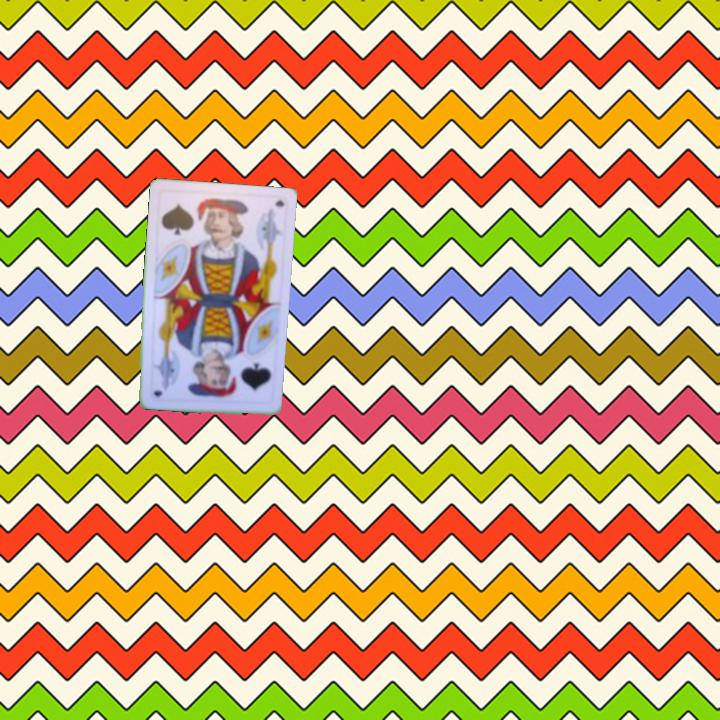s_j.png: (205, 346, 276, 408), (155, 188, 226, 250)
